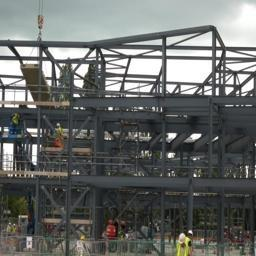hat: (176, 232, 186, 247), (56, 119, 66, 131), (108, 216, 118, 227), (187, 228, 195, 237)
vest: (9, 114, 26, 128), (106, 226, 118, 245), (185, 236, 196, 256), (54, 128, 66, 144), (176, 243, 190, 256)
